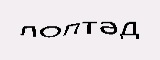Д: (119, 18, 141, 43)
Л: (16, 23, 38, 36)
О: (40, 23, 60, 39)
П: (61, 21, 81, 36)
Т: (81, 17, 96, 35)
Ә: (98, 18, 117, 35)
